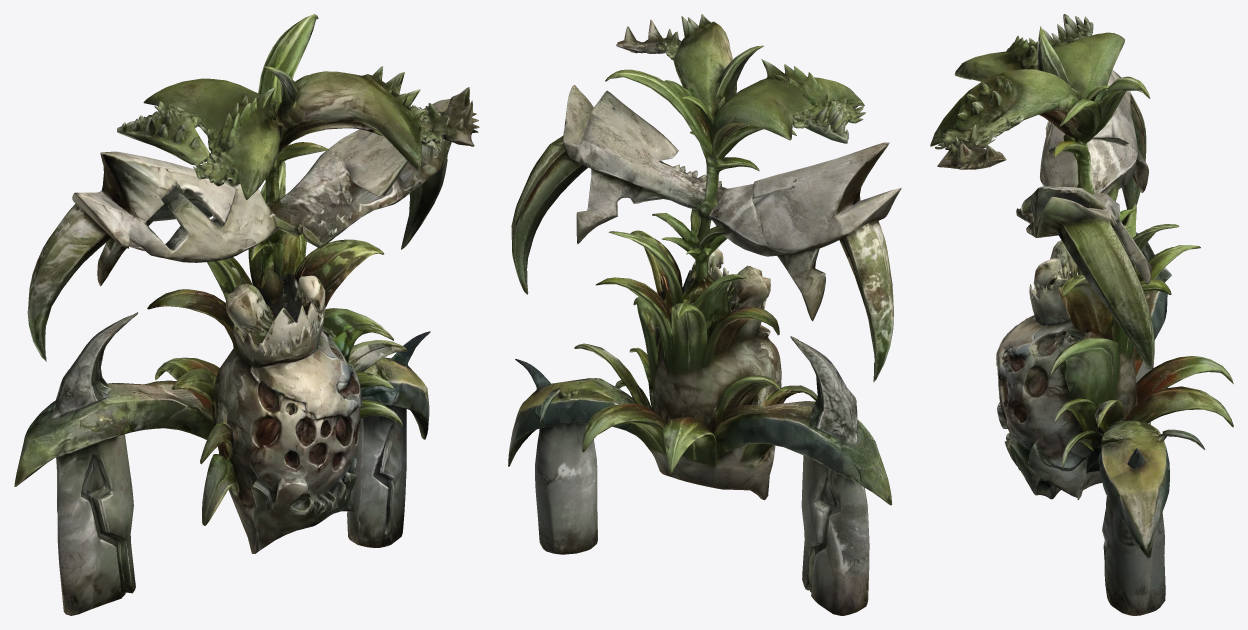
File: IronBloom.glb
3 views of the same model, side by side, from view 1: azimuth 30°, elevation 25°; view 2: azimuth 150°, elevation 25°; view 3: azimuth 270°, elevation 25° (orthographic). The views are drawn at different scales.
Bounding box in the file's own units: 1.51 × 1.9 × 1.03.
Materials: 1 (1 with a texture image).
